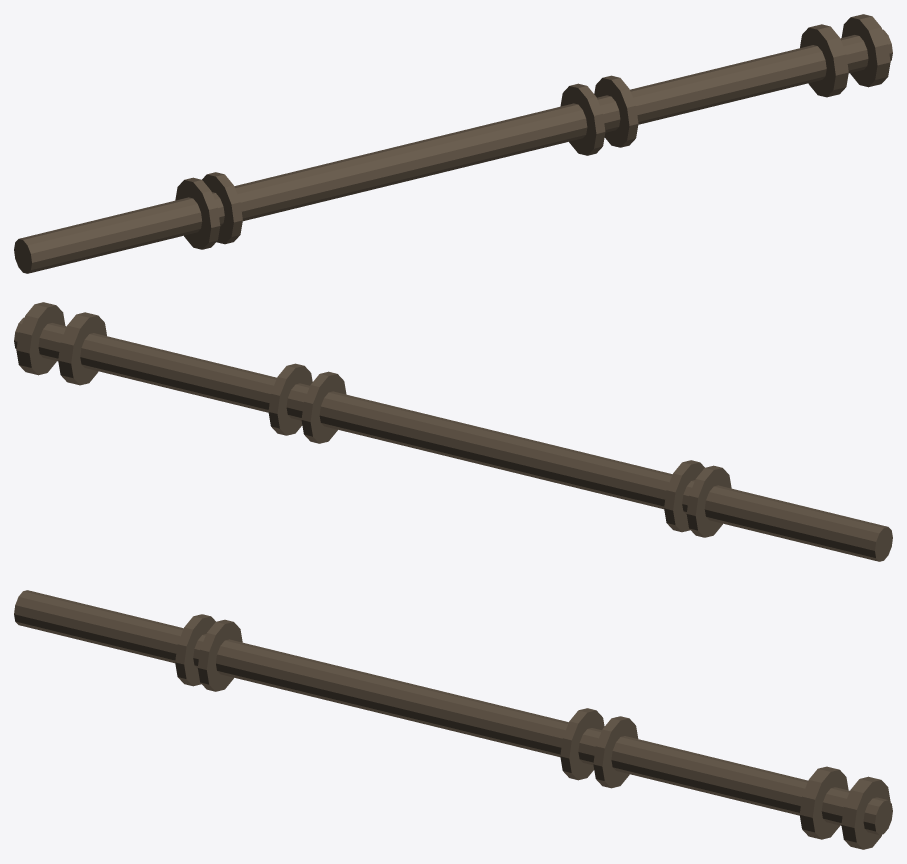
3 renders of one model, top to bottom at view 1: azimuth 30°, elevation 25°; view 2: azimuth 150°, elevation 25°; view 3: azimuth 330°, elevation 25°, orthographic.
Parts seen in each view (by area): view 1: 吊桥e1, 吊桥e3, 吊桥e2_1, 吊桥e2_2; view 2: 吊桥e1, 吊桥e3, 吊桥e2_1, 吊桥e2_2; view 3: 吊桥e1, 吊桥e3, 吊桥e2_1, 吊桥e2_2.
Part boxes in pixels (x1,y1,x2,y2): 吊桥e1: (14, 29, 892, 273); 吊桥e3: (175, 75, 638, 249); 吊桥e2_1: (841, 14, 890, 87); 吊桥e2_2: (800, 24, 848, 97); 吊桥e1: (14, 317, 892, 561); 吊桥e3: (268, 363, 731, 537); 吊桥e2_1: (16, 302, 65, 375); 吊桥e2_2: (58, 312, 106, 385); 吊桥e1: (14, 590, 892, 834); 吊桥e3: (175, 614, 638, 788); 吊桥e2_1: (841, 776, 890, 849); 吊桥e2_2: (799, 766, 848, 839).
Size of the model in its own units: 330 by 24 by 24.
